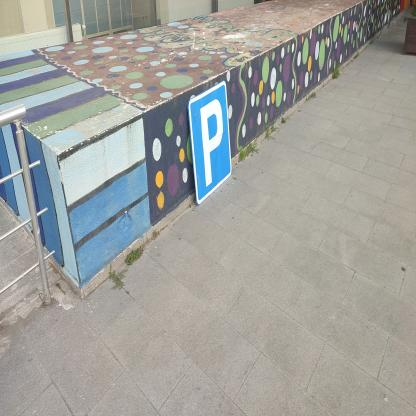Parking-Sign: (187, 78, 234, 211)
